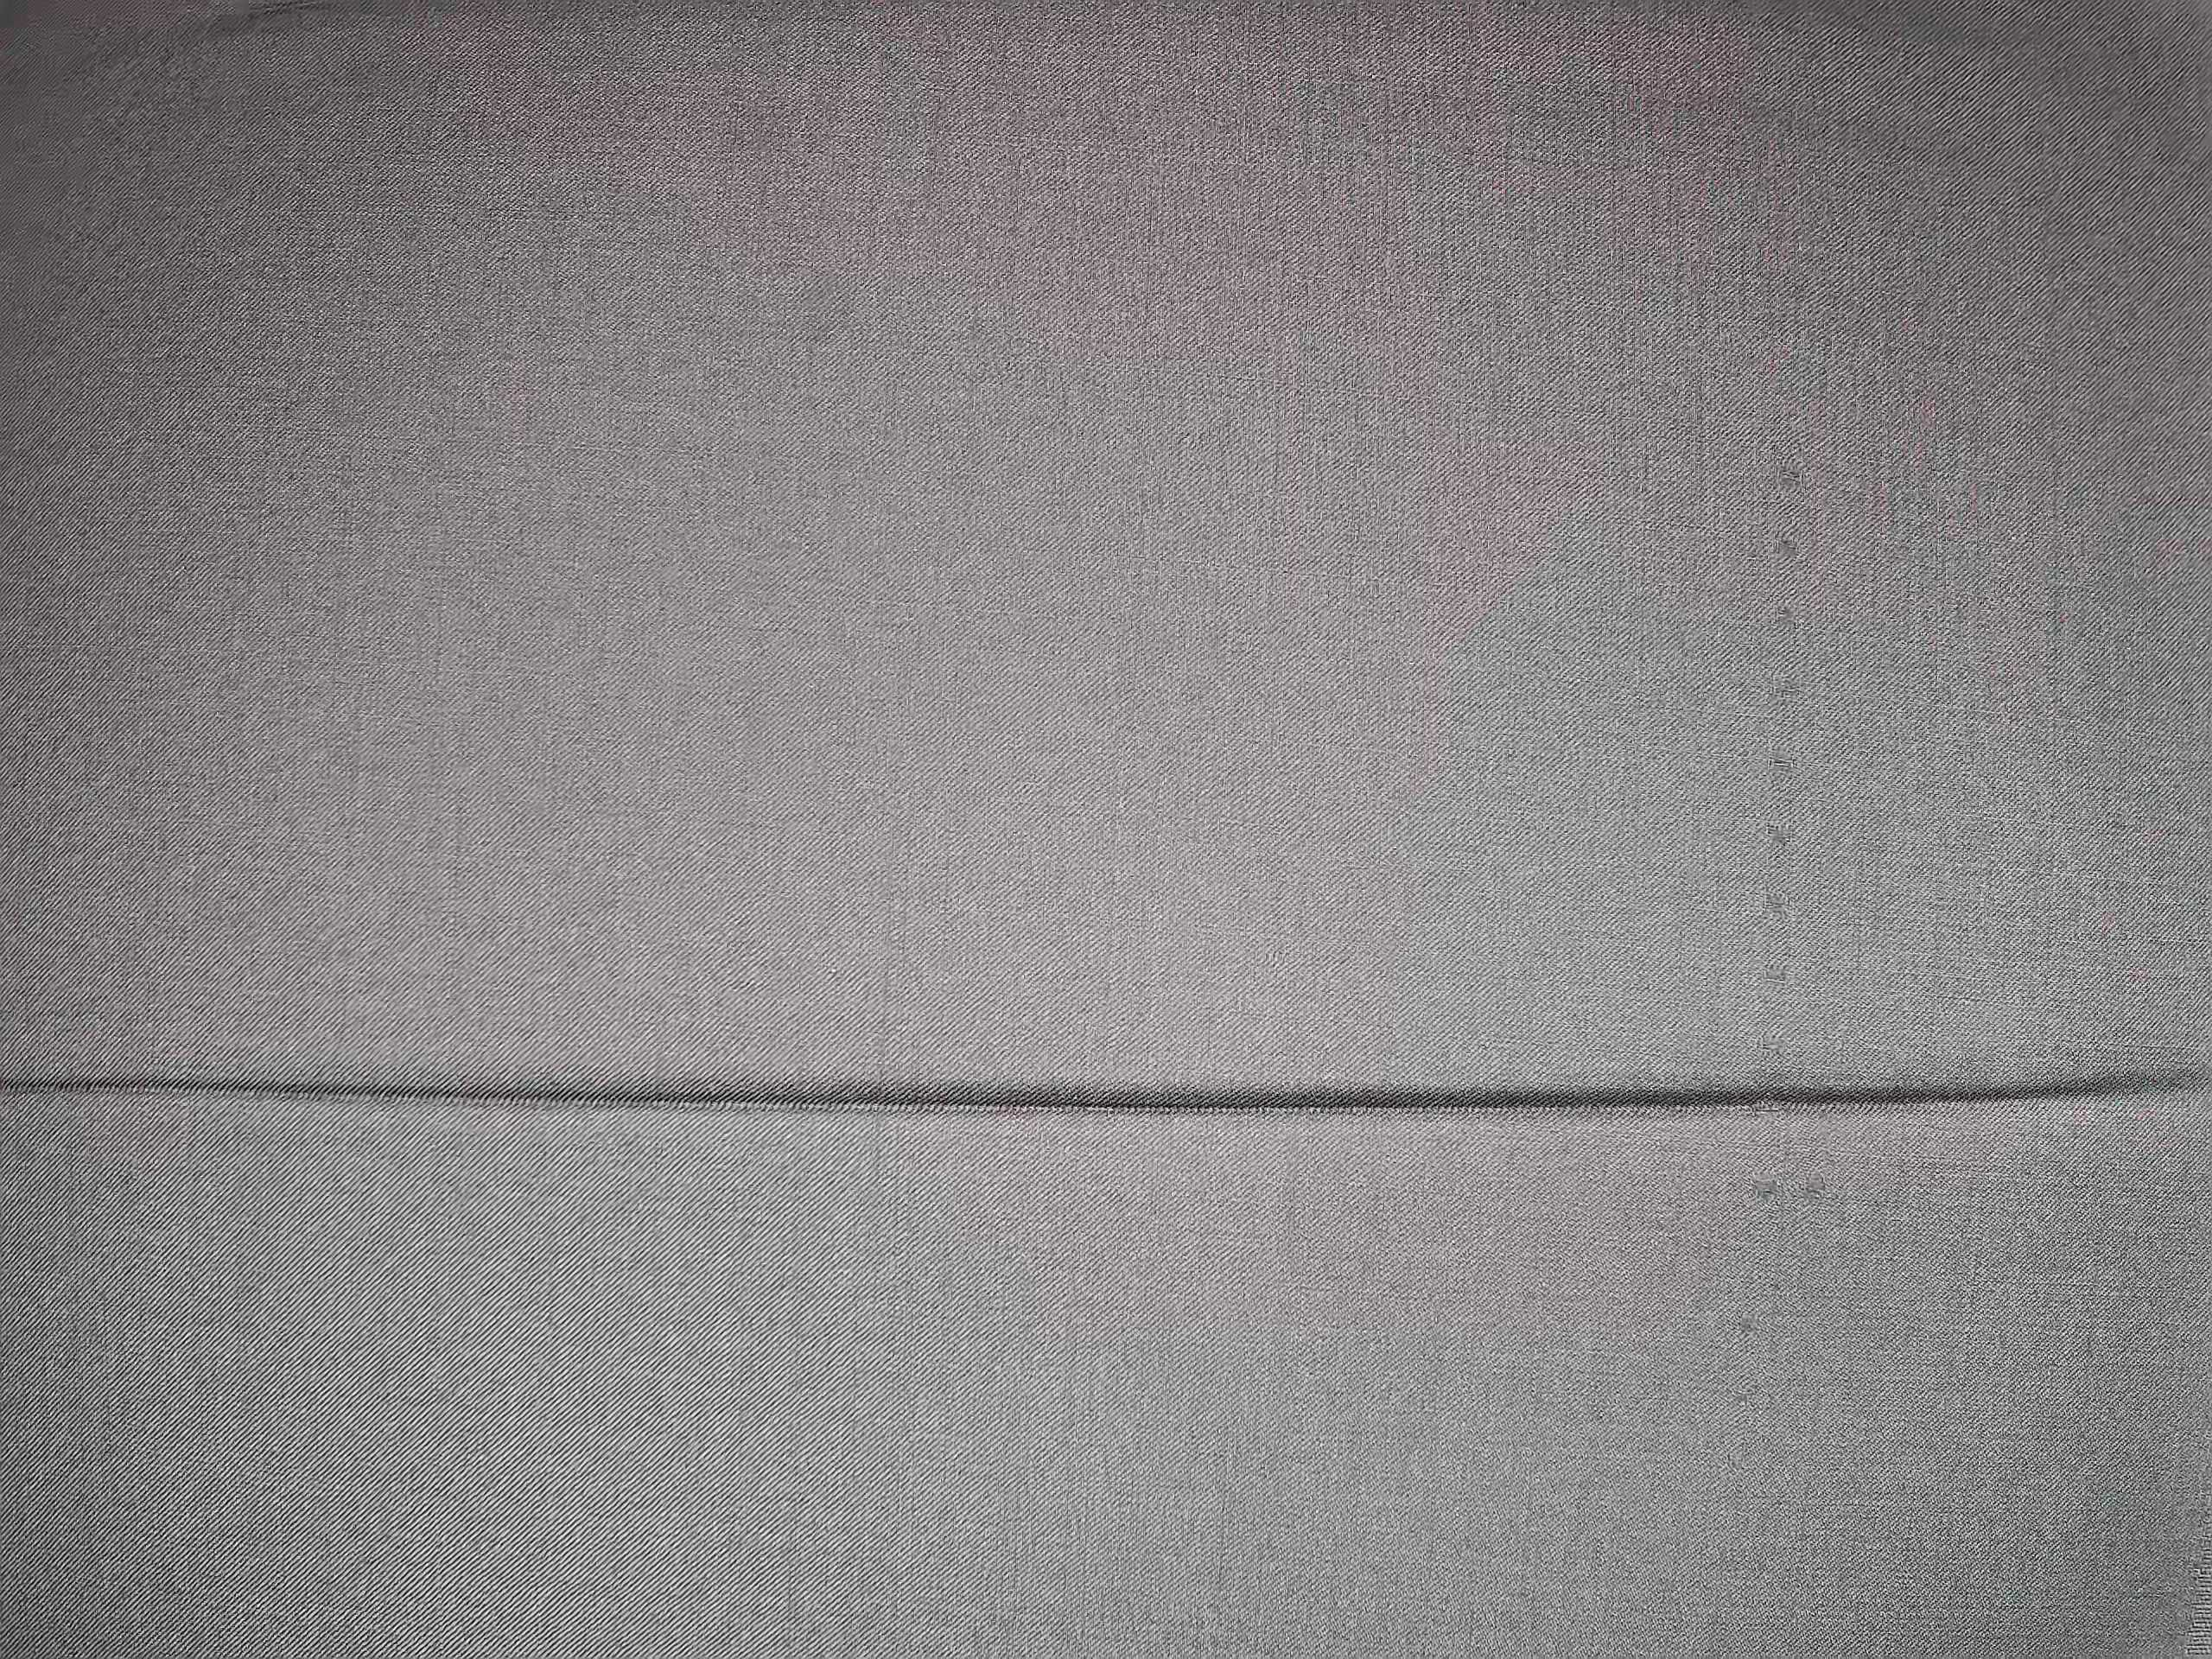puncture-hole: (1749, 434, 1811, 1211)
